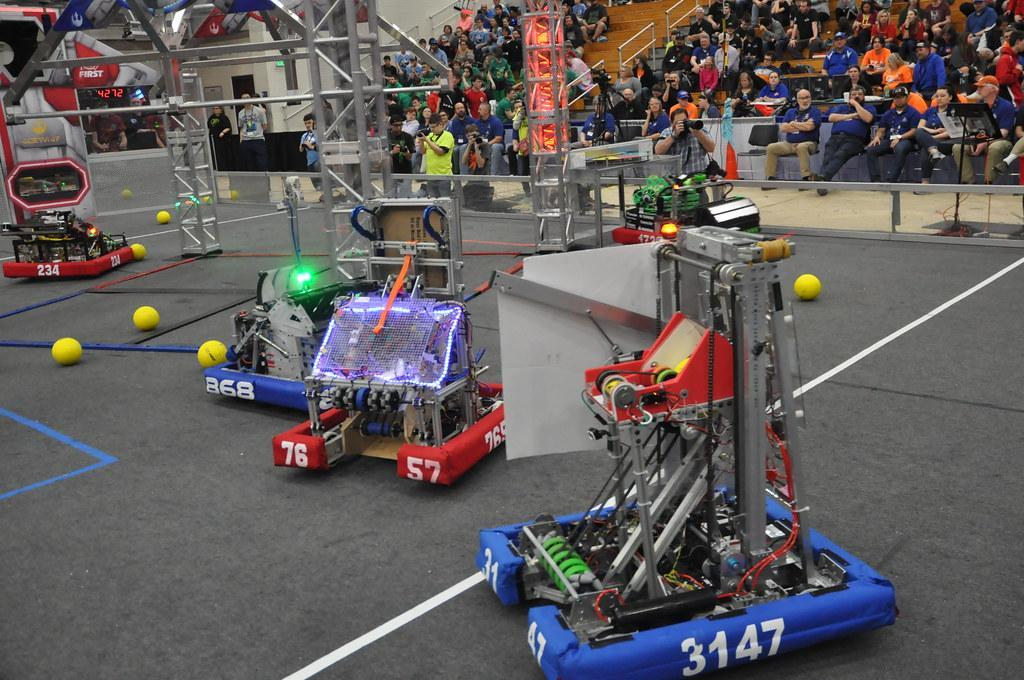robot: (472, 219, 904, 680), (273, 186, 519, 499), (195, 246, 390, 417), (610, 163, 772, 272), (0, 193, 149, 287)
